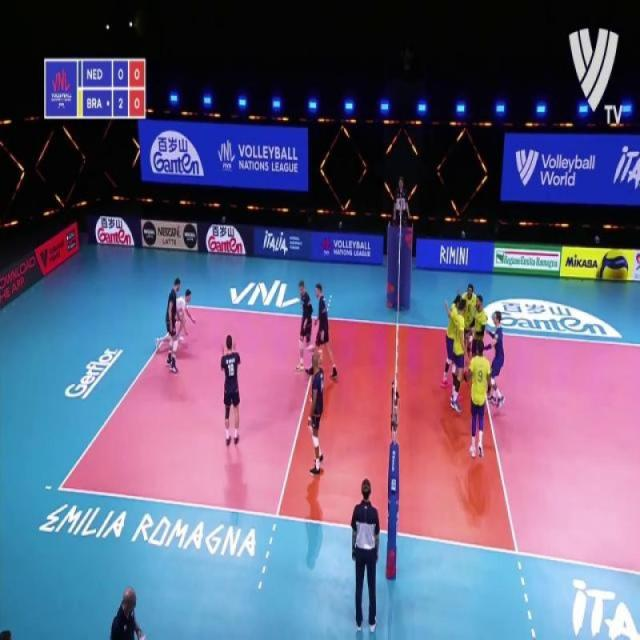volleyball: (599, 248, 628, 279)
